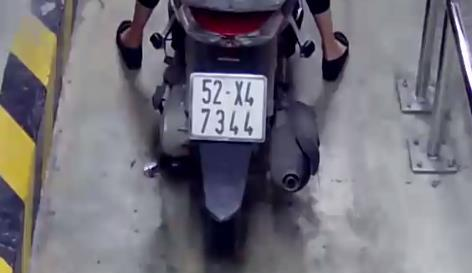lisence: (188, 73, 266, 142)
